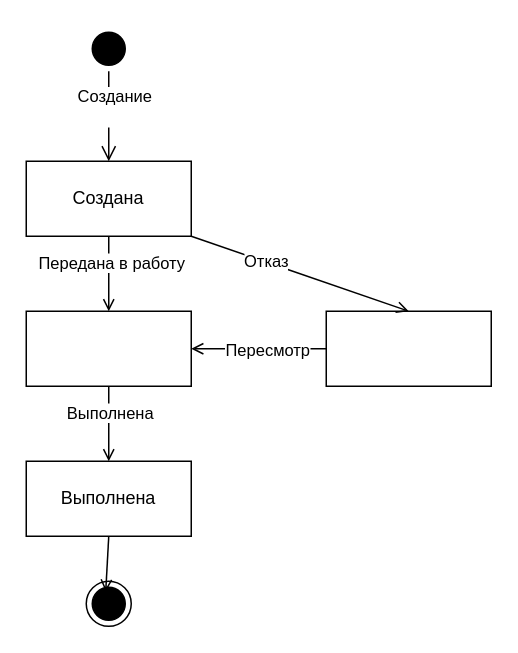
This 518x653 diagram has some shape labels left out. The centre of each missing label's shape, as x and y in pixels:
В работе: the point at 108,348
Отказана: the point at 408,348
